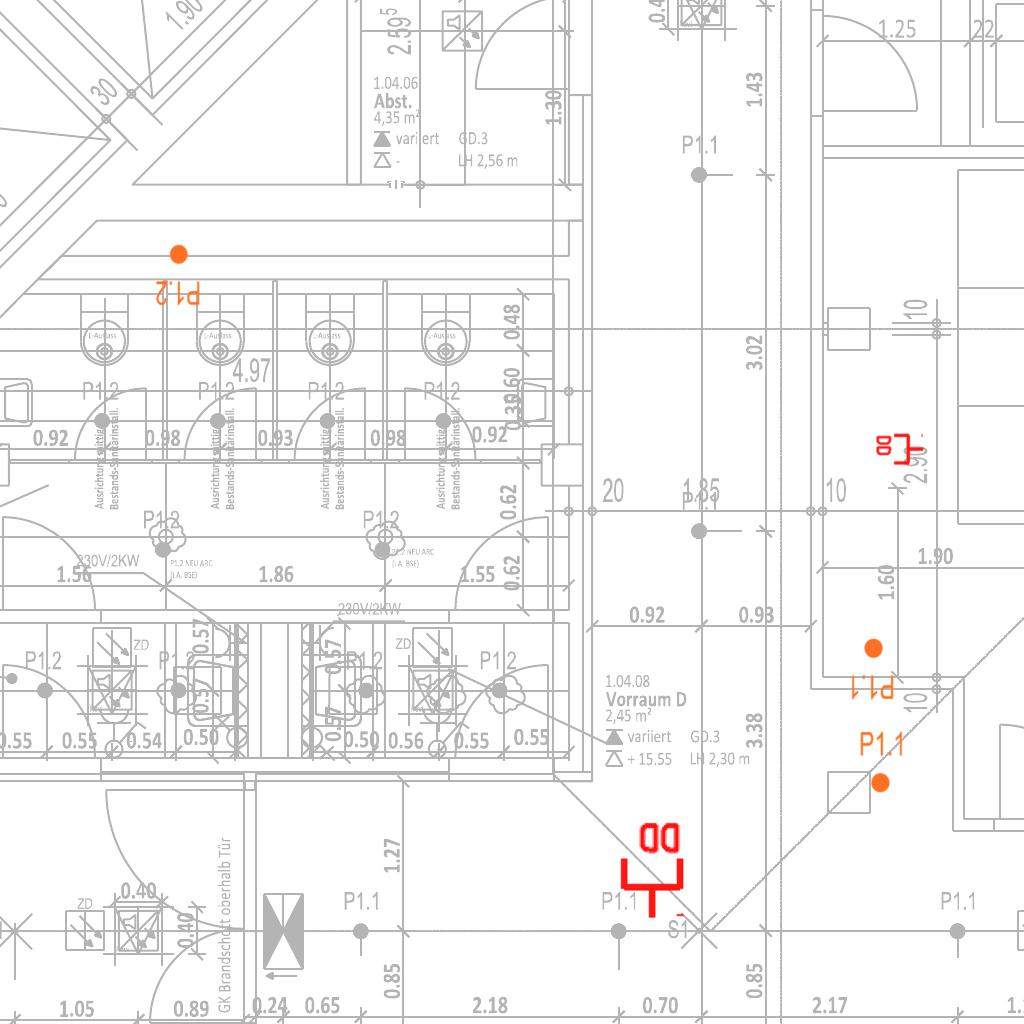Datenanschluss_zweifach: (616, 818, 685, 921), (874, 433, 925, 467)
Downlight_LED_Einbauleuchten_Flur: (155, 243, 201, 307), (849, 637, 895, 701), (859, 730, 905, 794)
